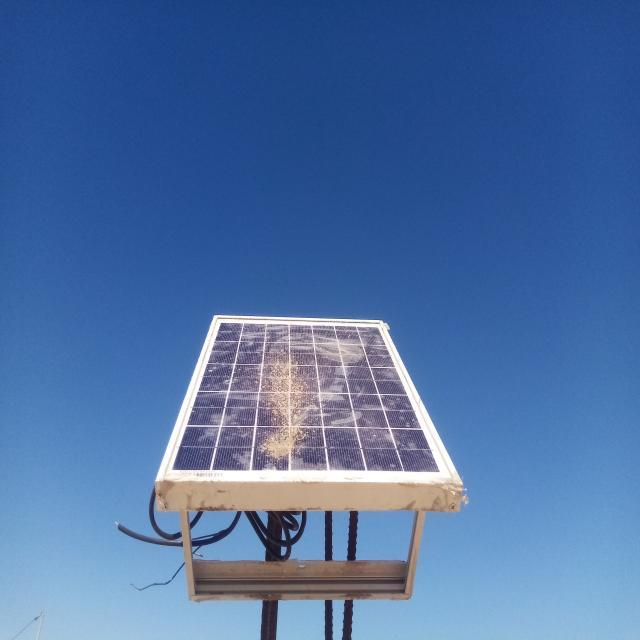faulty: (163, 318, 460, 482)
